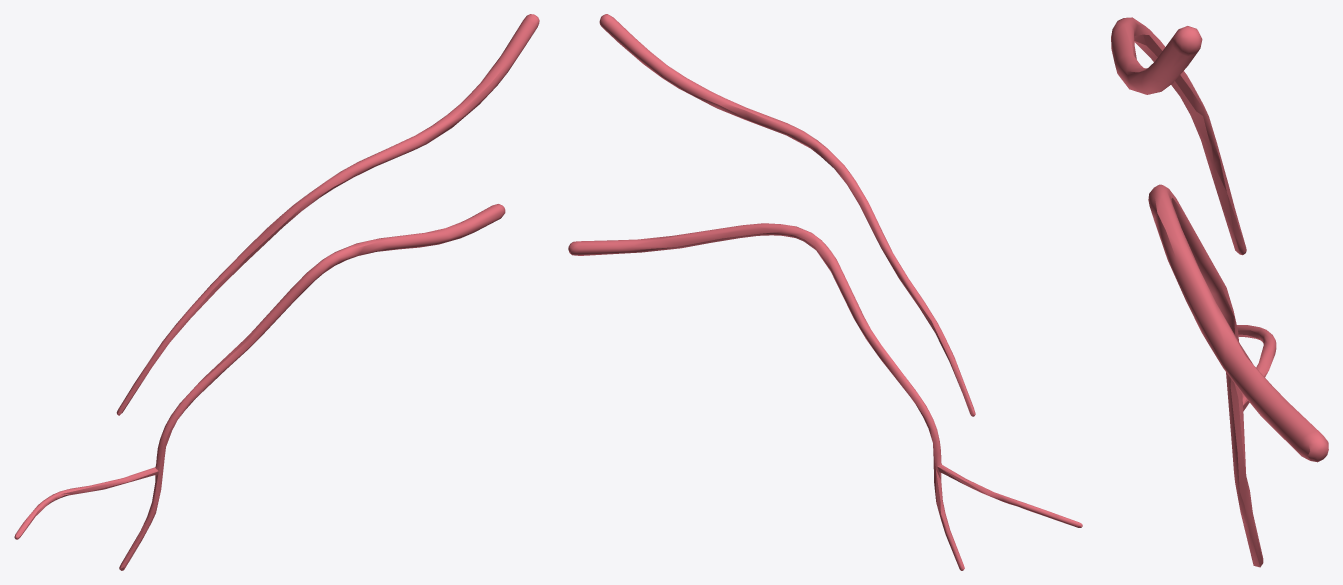
The model's file is fma14177_fj3418.glb.
The picture shows the model from 3 angles, left to right: view 1: azimuth 30°, elevation 25°; view 2: azimuth 150°, elevation 25°; view 3: azimuth 270°, elevation 25°; orthographic projection. The views are drawn at different scales.
Parts seen in each view (by area): view 1: FMA14177_FJ3418; view 2: FMA14177_FJ3418; view 3: FMA14177_FJ3418.
Part boxes in pixels (x1,y1,x2,y2): FMA14177_FJ3418: [14, 14, 539, 570]; FMA14177_FJ3418: [568, 14, 1082, 570]; FMA14177_FJ3418: [1111, 17, 1328, 567].
Size of the model in its own units: 0.047 by 0.0413 by 0.00902.
